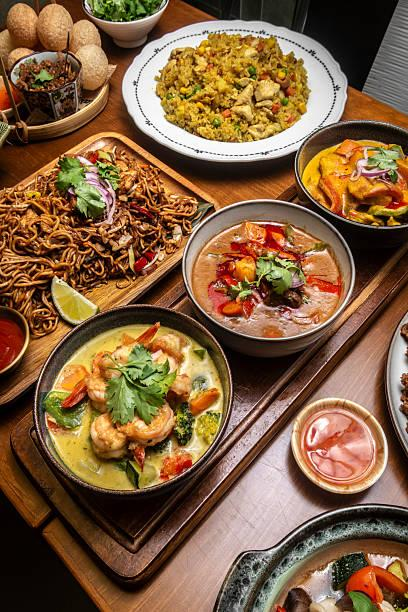Braised Crucian Carp: (31, 306, 231, 499), (2, 146, 197, 336), (120, 18, 349, 165), (181, 198, 354, 352), (292, 119, 403, 246)
